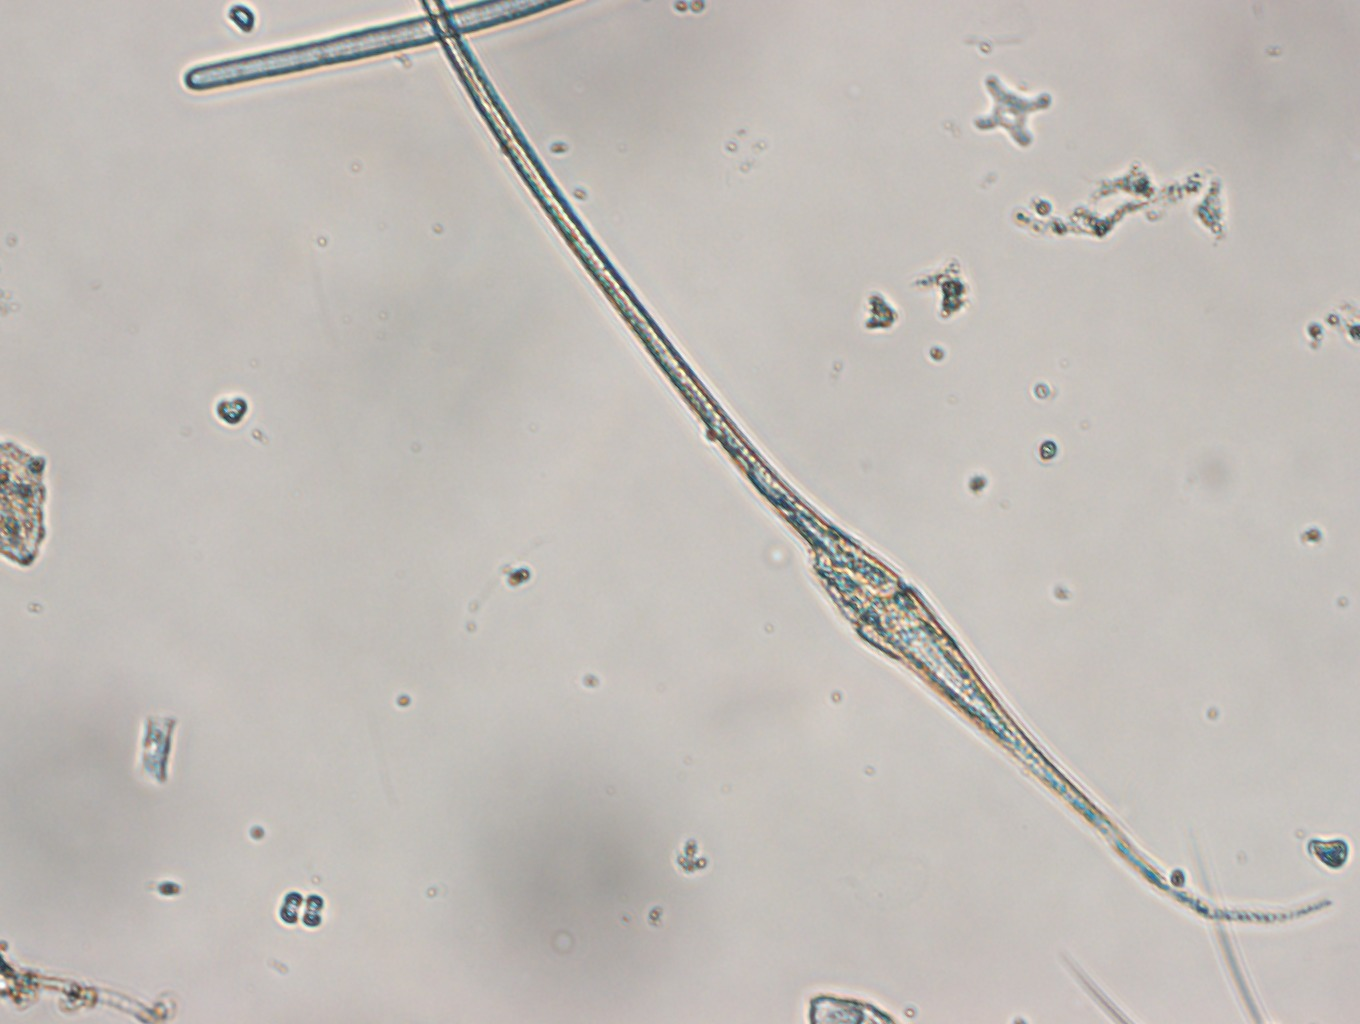ceratium fusus: (419, 2, 1327, 934)
